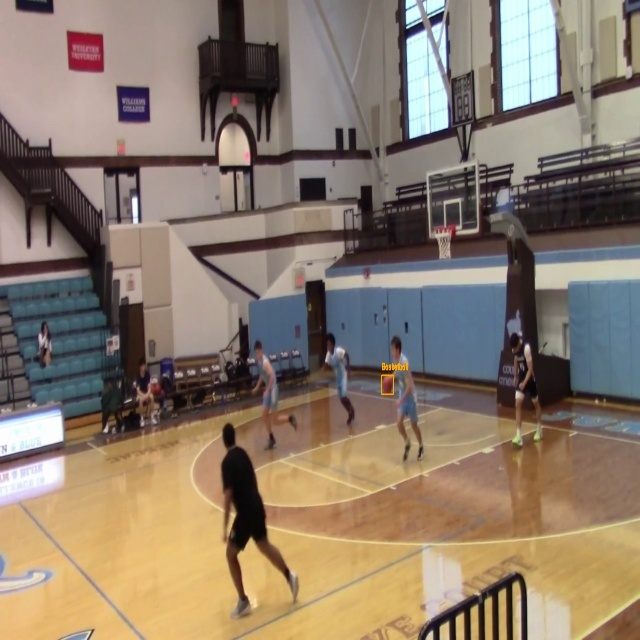Basketball: (382, 375, 393, 394)
